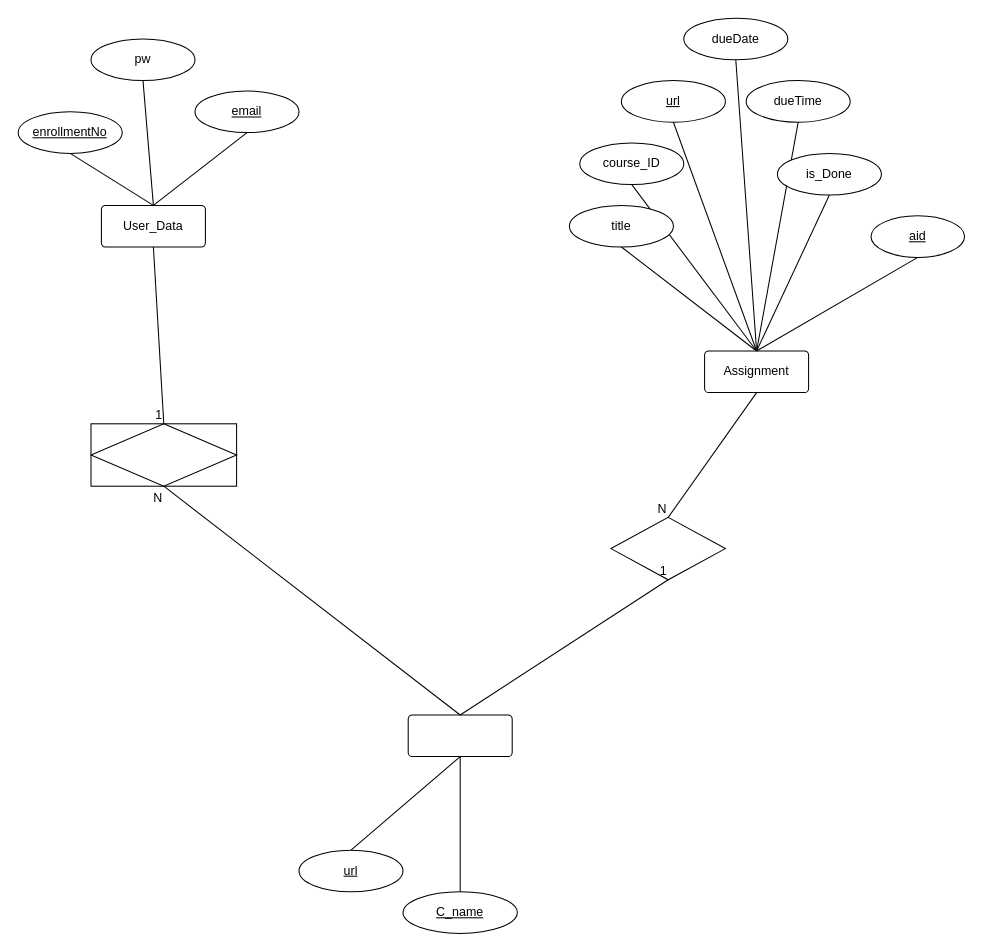
This 983x952 diagram has some shape labels left out. Here are the shapes that lost their labels. From the top down, the centre of each, then its label:
pixel 163 454: Enrolled
pixel 667 548: contains
pixel 459 735: Course
